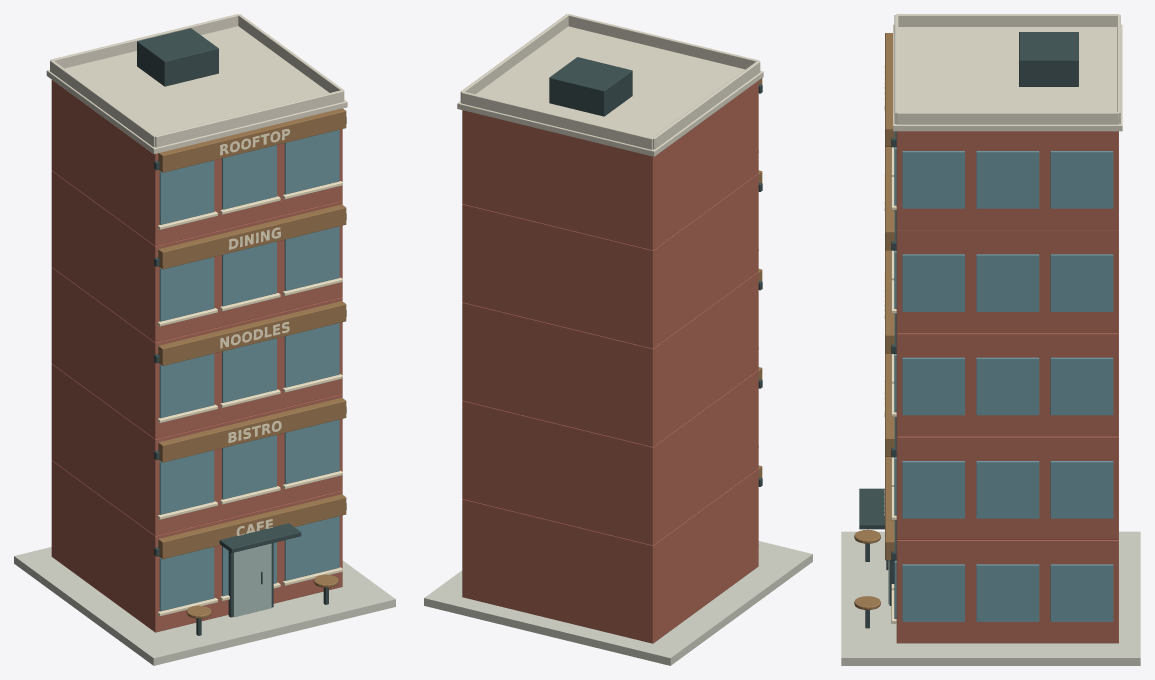
The model's file is medium-2x2-cafe-building-02.glb.
3 views of the same model, side by side, from view 1: azimuth 30°, elevation 25°; view 2: azimuth 150°, elevation 25°; view 3: azimuth 270°, elevation 25° (orthographic). The views are drawn at different scales.
Visible parts, largest first — view 1: Storey_03, Storey_04, Storey_02, RoofCap, Storey_01, Storey_05, LotPlinth, TenantFascia.001, TenantFascia.003, TenantFascia.002, TenantFascia.004, TenantFascia (+22 smaller); view 2: Storey_01, Storey_02, Storey_04, Storey_03, Storey_05, RoofCap, LotPlinth, HVAC, RoofParapet.001, RoofParapet, RoofParapet.002, RoofParapet.003; view 3: RoofCap, LotPlinth, Storey_03, Storey_01, Storey_02, Storey_04, Storey_05, SideWindow_03.001, SideWindow_03.002, SideWindow_03, SideWindow_01.002, SideWindow_02.001 (+20 smaller).
Part boxes in pixels (box(x1,y1,x2,y2)): Storey_03: box(51, 267, 342, 439); Storey_04: box(51, 170, 342, 342); Storey_02: box(51, 364, 342, 535); RoofCap: box(46, 26, 347, 154); Storey_01: box(51, 460, 342, 632); Storey_05: box(51, 80, 342, 245); LotPlinth: box(14, 547, 395, 665); TenantFascia.001: box(158, 397, 346, 462); TenantFascia.003: box(158, 204, 346, 269); TenantFascia.002: box(158, 301, 346, 365); TenantFascia.004: box(158, 108, 346, 172); TenantFascia: box(158, 494, 346, 559); Storey_01: box(462, 468, 758, 643); Storey_02: box(462, 370, 758, 545); Storey_04: box(462, 173, 758, 348); Storey_03: box(462, 271, 758, 446); Storey_05: box(462, 81, 758, 250); RoofCap: box(457, 26, 763, 156); LotPlinth: box(424, 541, 812, 665); HVAC: box(549, 57, 632, 116); RoofParapet.001: box(461, 91, 652, 149); RoofParapet: box(568, 14, 759, 69); RoofParapet.002: box(653, 61, 760, 149); RoofParapet.003: box(460, 14, 568, 102); RoofCap: box(893, 24, 1122, 131); LotPlinth: box(841, 531, 1140, 665); Storey_03: box(896, 333, 1118, 436); Storey_01: box(896, 540, 1118, 643); Storey_02: box(896, 436, 1118, 539); Storey_04: box(896, 230, 1118, 333); Storey_05: box(896, 131, 1118, 230); SideWindow_03.001: box(976, 357, 1039, 415); SideWindow_03.002: box(1050, 357, 1113, 415); SideWindow_03: box(902, 357, 964, 415); SideWindow_01.002: box(1050, 564, 1113, 621); SideWindow_02.001: box(976, 461, 1039, 518).
Bounding box in the file's own units: 8 × 16.44 × 8.
